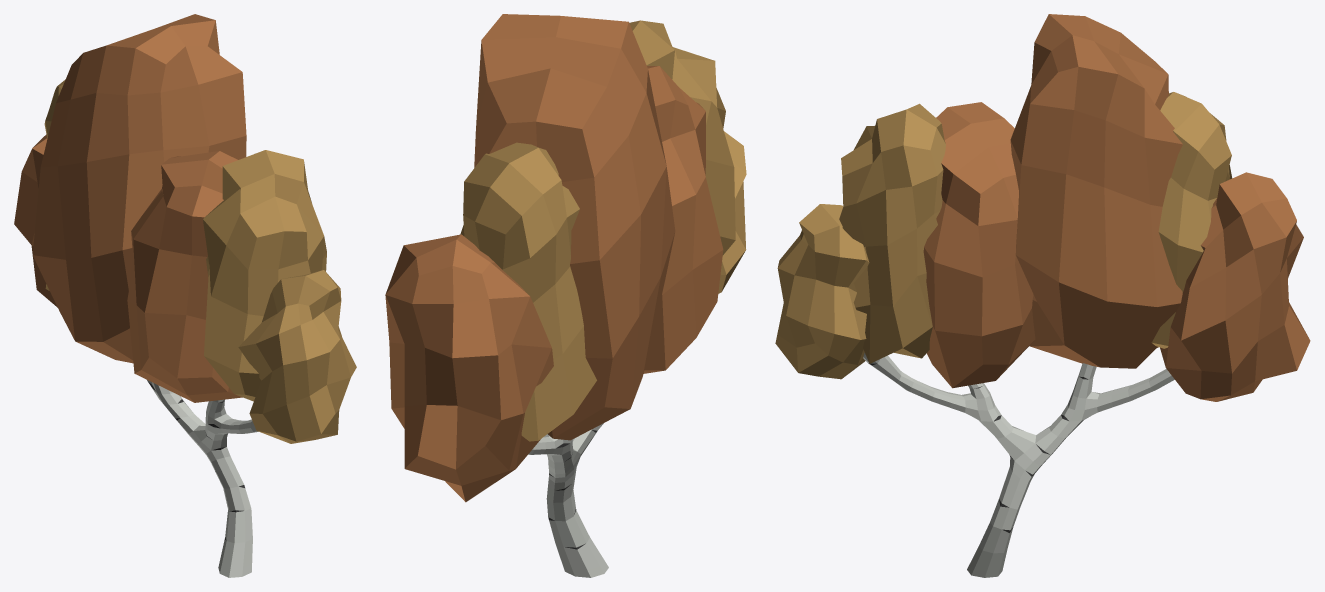
Rendered from BirchTree_Autumn_4.glb.
3 views of the same model, side by side, from view 1: azimuth 30°, elevation 25°; view 2: azimuth 150°, elevation 25°; view 3: azimuth 270°, elevation 25° (orthographic). The views are drawn at different scales.
Parts seen in each view (by area): view 1: BirchTree_Autumn_4; view 2: BirchTree_Autumn_4; view 3: BirchTree_Autumn_4.
Part boxes in pixels (bbox=[...]): BirchTree_Autumn_4: bbox=[14, 14, 356, 577]; BirchTree_Autumn_4: bbox=[385, 14, 746, 577]; BirchTree_Autumn_4: bbox=[775, 14, 1310, 577].
Size of the model in its own units: 0.4612 by 1.42 by 1.31.
